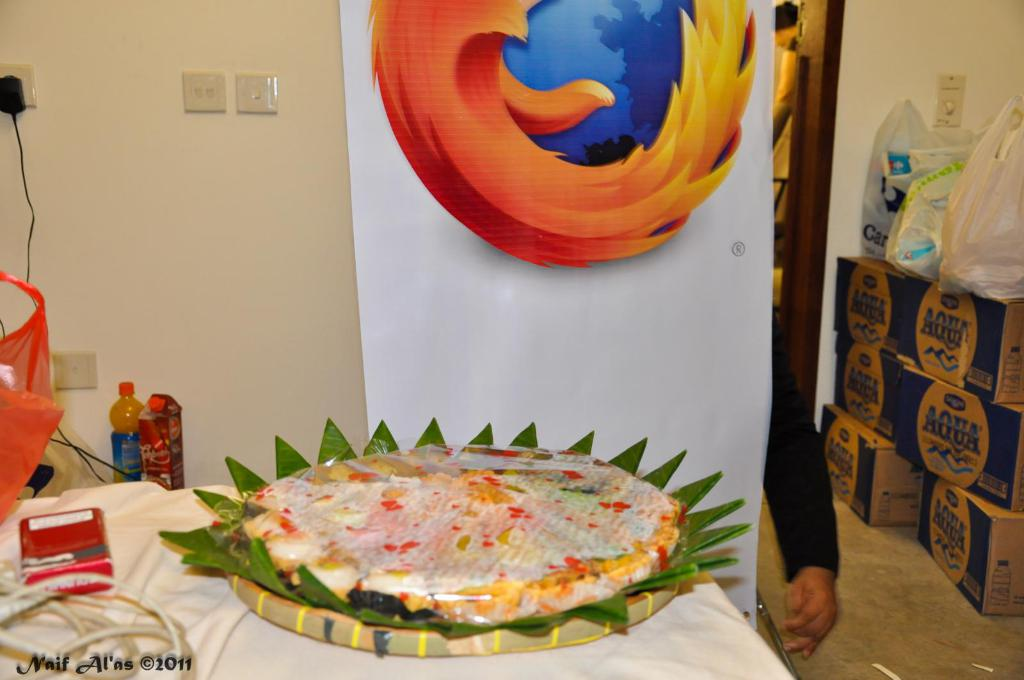Pizza: (166, 444, 703, 670)
